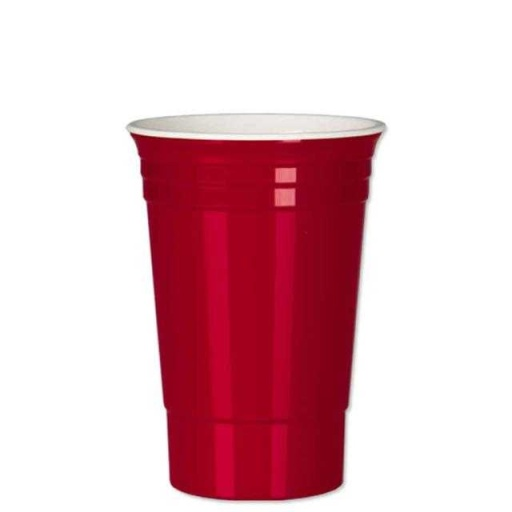cup: (124, 111, 386, 502)
